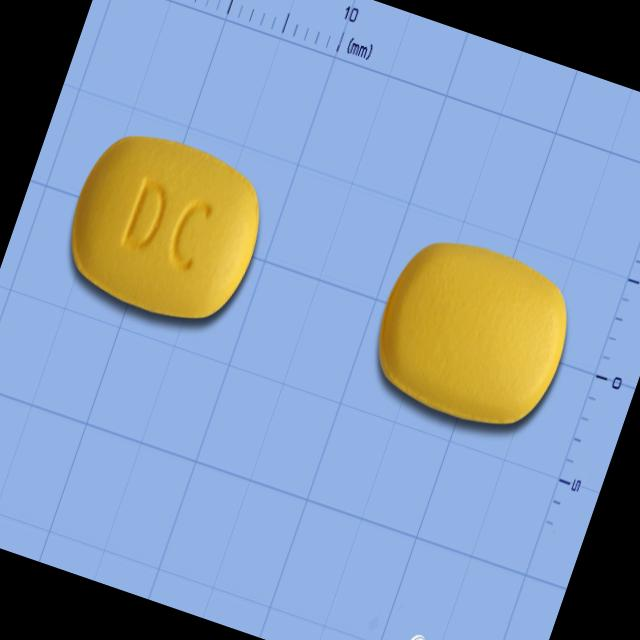Clabicks: (46, 114, 285, 346)
